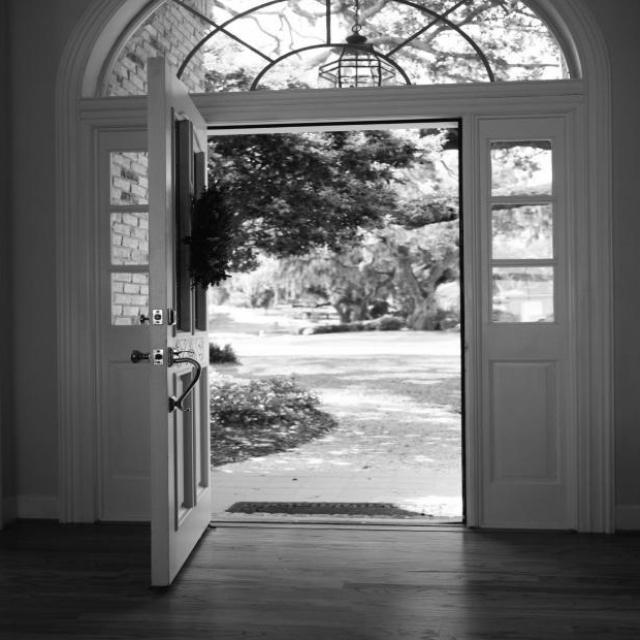Door: (145, 50, 226, 599)
